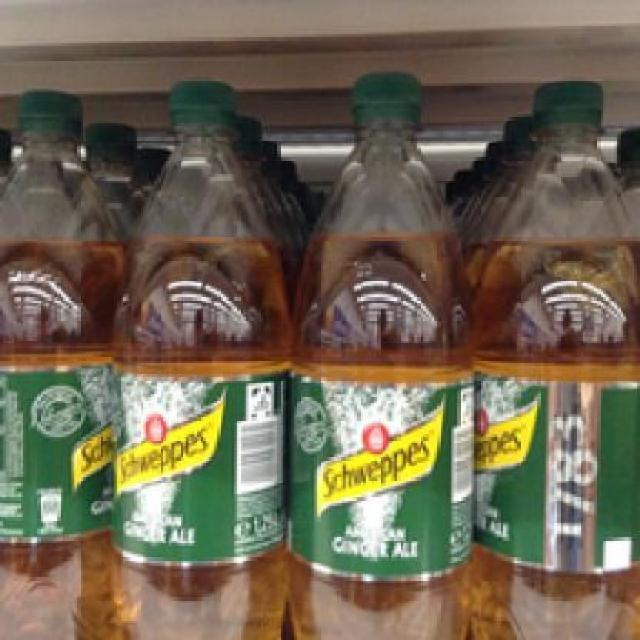Soda: (283, 68, 472, 638), (115, 77, 292, 637), (474, 72, 637, 638), (0, 87, 115, 638)
